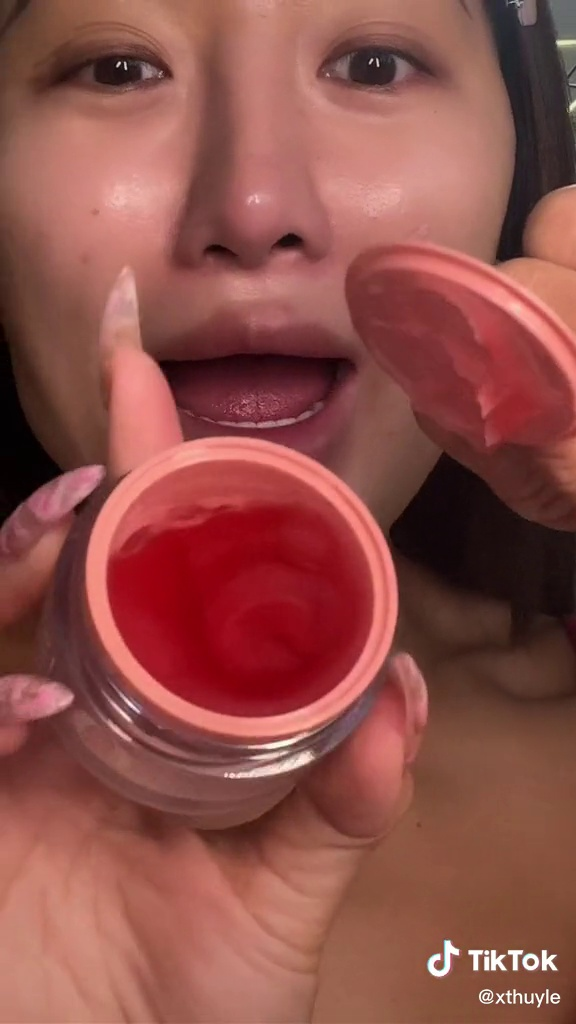train' :'yolo_data/train/images',: (20, 422, 400, 849), (316, 237, 575, 464)
